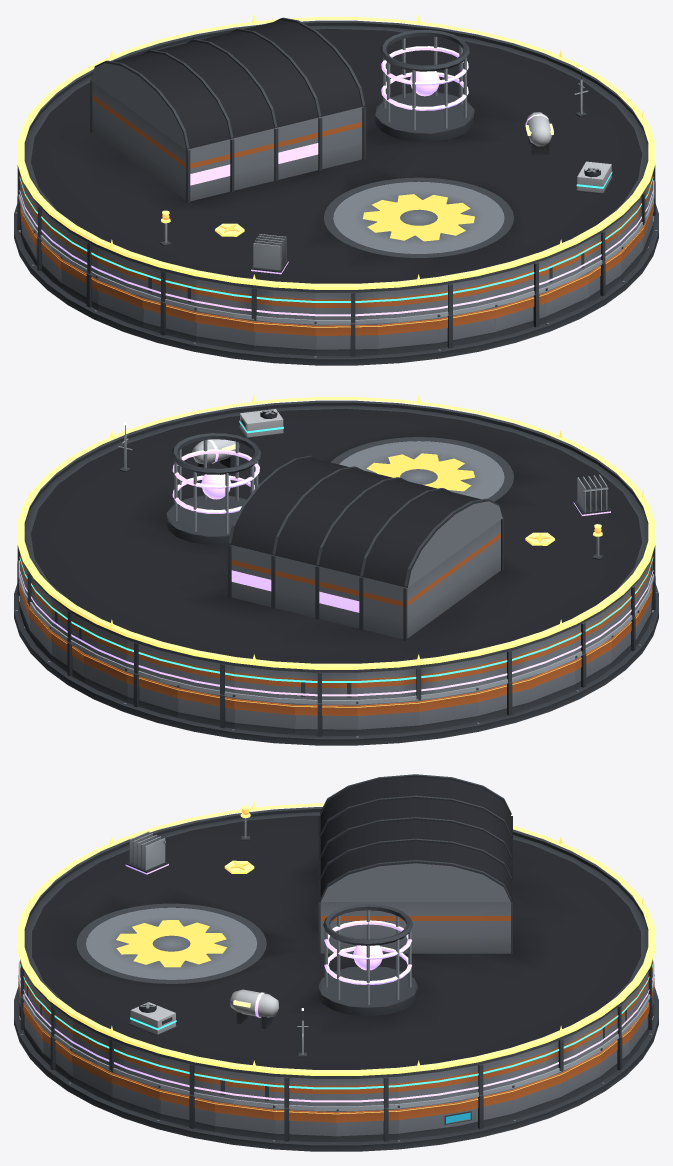
The model's file is metamaterial_foundry_xl.glb.
3 views of the same model, one above another, from view 1: azimuth 30°, elevation 25°; view 2: azimuth 150°, elevation 25°; view 3: azimuth 270°, elevation 25° (orthographic).
Parts seen in each view (by area): view 1: Roof, Base, L4, Wall_21, Wall_20, Wall_22, Wall_19, Wall_23, Wall_18, Wall_24, Upper_21, Upper_20 (+21 smaller); view 2: Roof, Base, Wall_10, L4, Wall_11, Wall_09, Wall_12, Wall_08, Wall_13, Wall_07, Upper_11, Upper_09 (+21 smaller); view 3: Roof, Base, L4, Wall_00, Wall_31, Wall_30, Wall_01, Wall_29, Wall_02, Upper_00, Upper_31, Wall_28 (+18 smaller).
Boxes of the visible parts, x1,y1,x2,y2 form: Roof: [24, 17, 648, 292]; Base: [14, 204, 658, 365]; L4: [251, 112, 553, 274]; Wall_21: [315, 323, 377, 356]; Wall_20: [254, 319, 315, 355]; Wall_22: [378, 318, 438, 354]; Wall_19: [195, 311, 254, 351]; Wall_23: [438, 307, 495, 348]; Wall_18: [142, 297, 196, 342]; Wall_24: [495, 292, 546, 337]; Upper_21: [315, 291, 377, 323]; Upper_20: [254, 288, 315, 319]; Roof: [24, 400, 648, 672]; Base: [14, 584, 658, 745]; Wall_10: [295, 703, 357, 736]; L4: [192, 439, 610, 515]; Wall_11: [357, 700, 418, 735]; Wall_09: [234, 698, 294, 734]; Wall_12: [418, 691, 477, 731]; Wall_08: [177, 685, 234, 728]; Wall_13: [476, 677, 530, 722]; Wall_07: [126, 672, 177, 717]; Upper_11: [357, 668, 418, 699]; Upper_09: [234, 666, 295, 698]; Roof: [24, 774, 648, 1078]; Base: [14, 987, 658, 1151]; L4: [125, 831, 278, 1028]; Wall_00: [336, 1108, 398, 1141]; Wall_31: [274, 1108, 336, 1141]; Wall_30: [214, 1100, 274, 1139]; Wall_01: [398, 1100, 458, 1139]; Wall_29: [159, 1088, 214, 1131]; Wall_02: [458, 1088, 513, 1131]; Upper_00: [336, 1076, 398, 1108]; Upper_31: [274, 1076, 336, 1108]; Wall_28: [111, 1070, 160, 1119].
Size of the model in its own units: 23.15 by 6.51 by 23.15.
